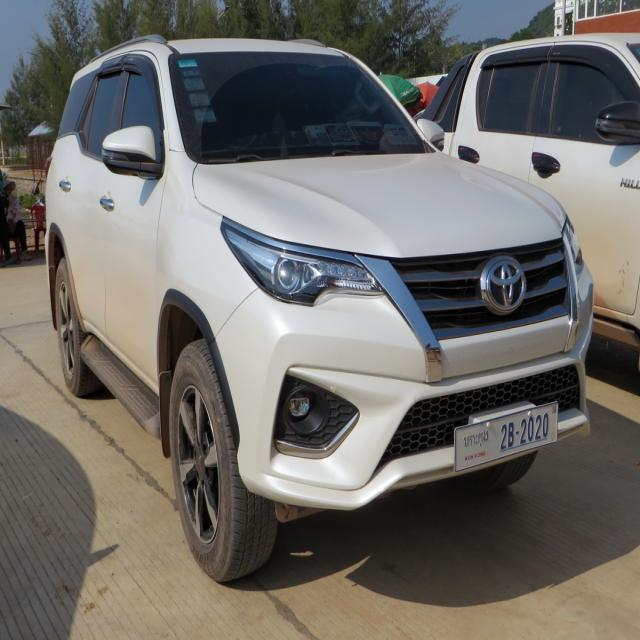Koh_Kong: (461, 428, 491, 450)
